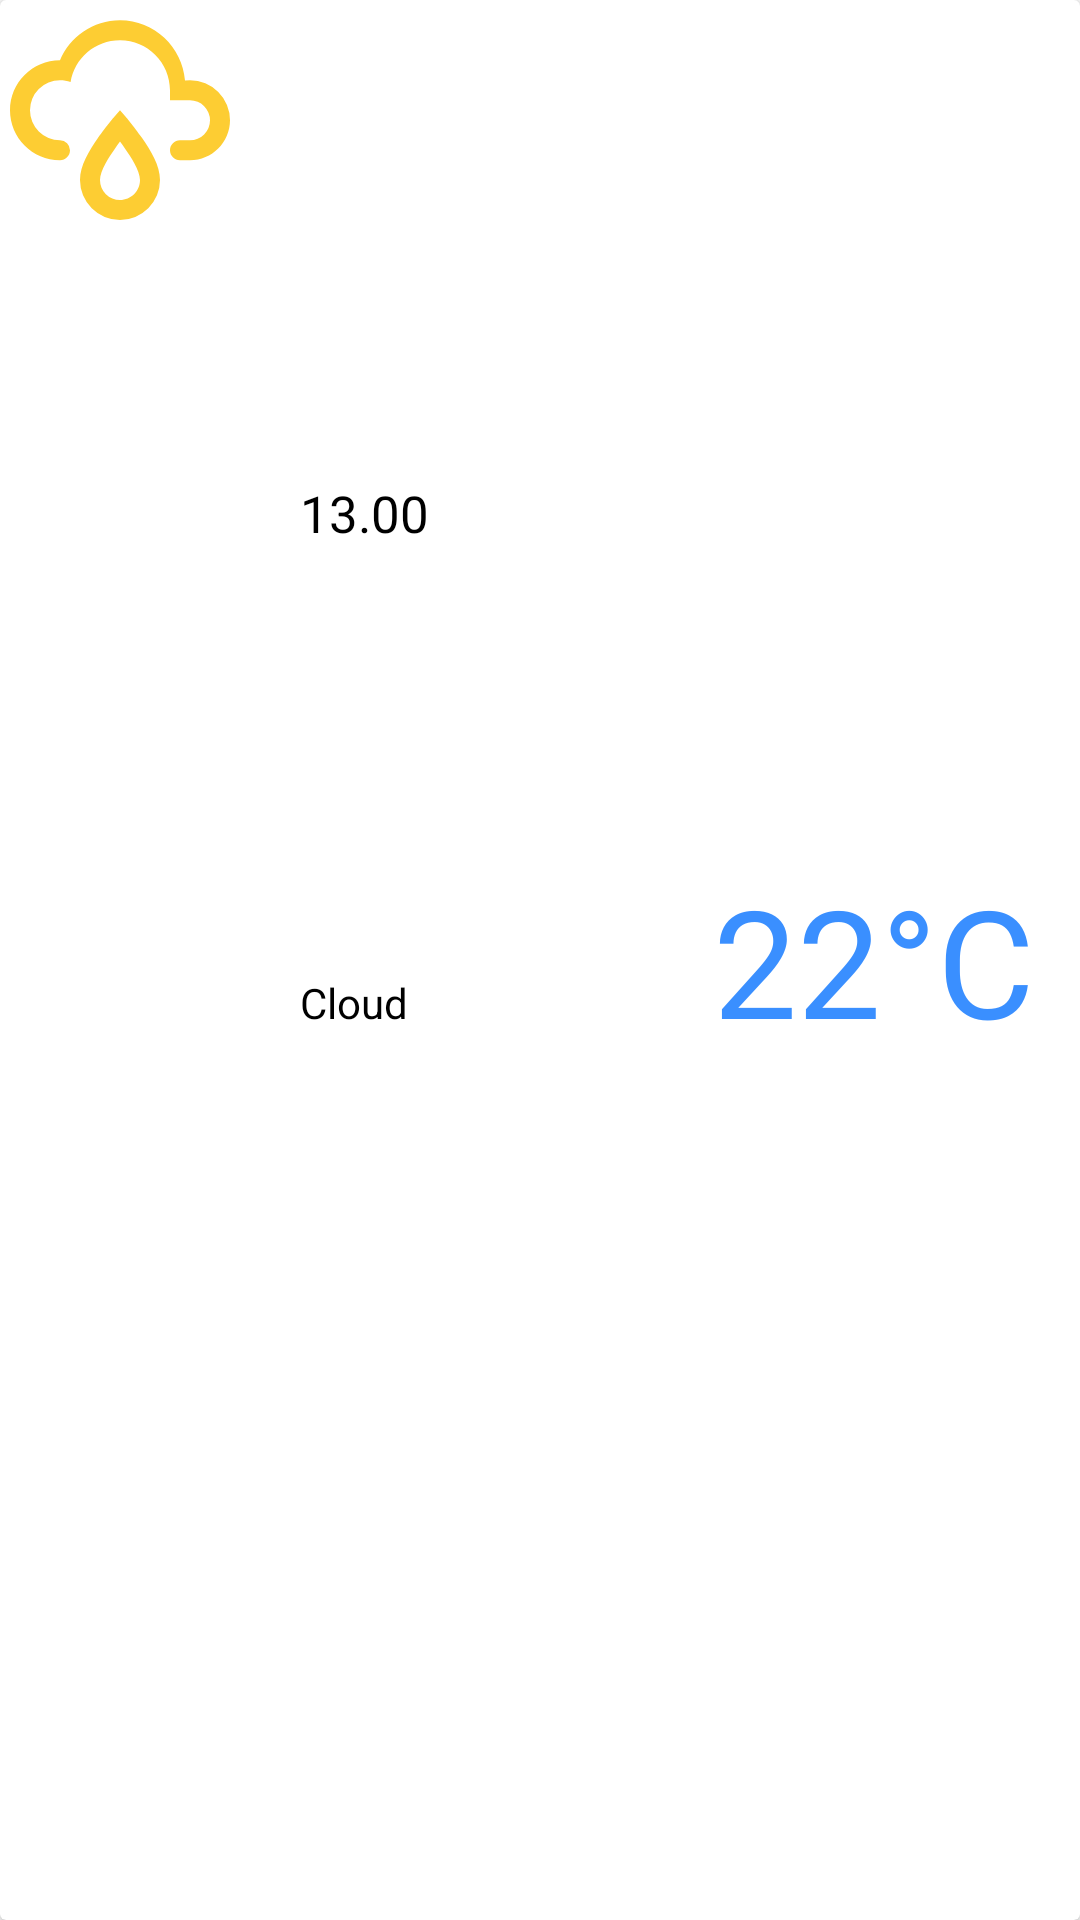

Locate icon controls on the screen. Image size 1080px×1920px, boxes as (x1, y1, x2, y2).
weather rainy: (0, 1, 230, 220)
